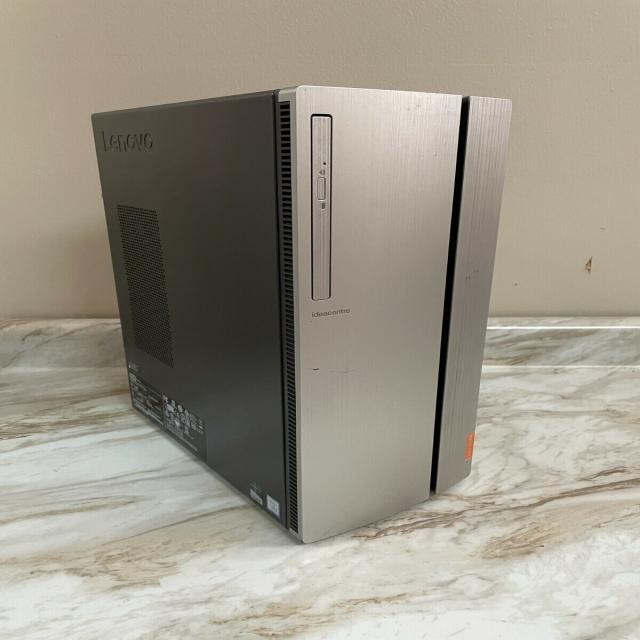Desktop-PC: (80, 71, 528, 556)
